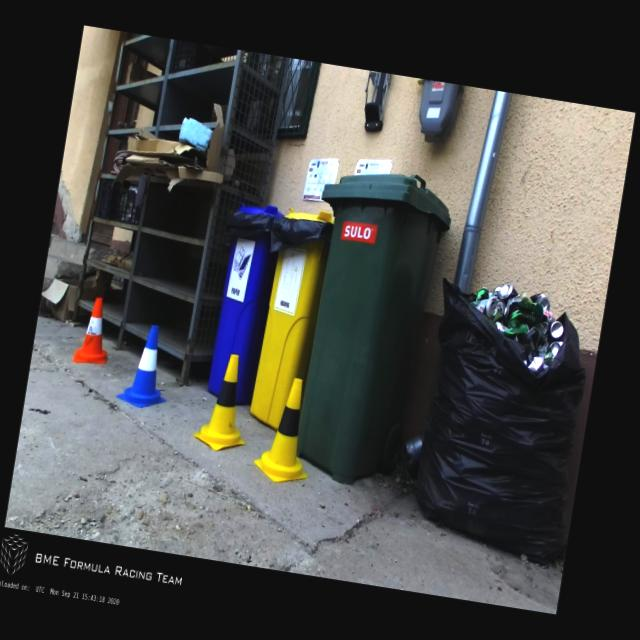blue_cone: (115, 322, 177, 412)
orange_cone: (73, 296, 116, 366)
yellow_cone: (252, 374, 322, 486), (192, 350, 258, 454)
